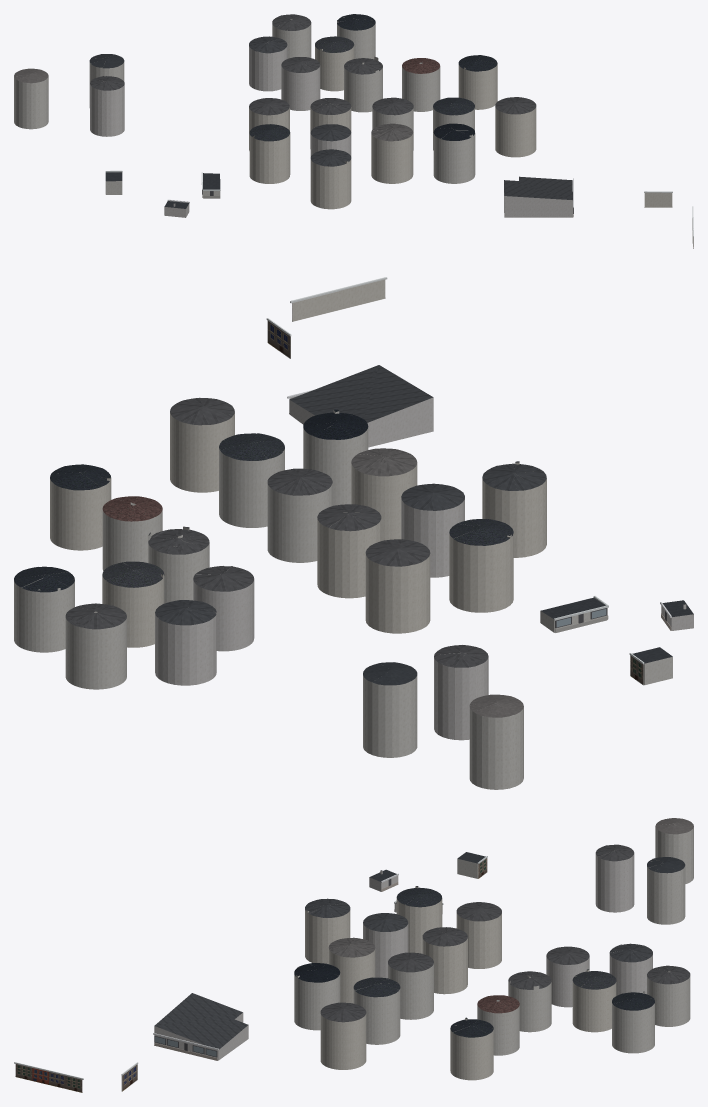
The picture shows the model from 3 angles, top to bottom: view 1: azimuth 30°, elevation 25°; view 2: azimuth 150°, elevation 25°; view 3: azimuth 270°, elevation 25°; orthographic projection. The views are drawn at different scales.
Parts seen in each view (by area): view 1: bldg_6000064550, bldg_6000064534, bldg_6000064565, bldg_6000064514, bldg_6000064507, bldg_6000064487, bldg_6000064479, bldg_6000064539, bldg_6000064571, bldg_6000064552, bldg_6003919425, bldg_6000064563 (+33 smaller); view 2: bldg_6000064516, bldg_6000064507, bldg_6003919425_roof, bldg_6000064492, bldg_6000064479, bldg_6000064537, bldg_6000064548, bldg_6000064544, bldg_6000064528, bldg_6000064565, bldg_6000064556, bldg_6000064561 (+34 smaller); view 3: bldg_6003919425_roof, bldg_6000064565, bldg_6000064487, bldg_6000064492, bldg_6000064571, bldg_6000064561, bldg_6000064556, bldg_6000064550, bldg_6000064551, bldg_6000064528, bldg_6000064516, bldg_6000064544 (+34 smaller).
Part boxes in pixels (x1,y1,x2,y2): bldg_6000064550: (433, 128, 475, 183); bldg_6000064534: (371, 130, 413, 183); bldg_6000064565: (495, 107, 536, 157); bldg_6000064514: (310, 156, 351, 209); bldg_6000064507: (249, 126, 290, 183); bldg_6000064487: (90, 81, 124, 136); bldg_6000064479: (14, 76, 48, 129); bldg_6000064539: (281, 65, 320, 110); bldg_6000064571: (458, 62, 497, 109); bldg_6000064552: (344, 56, 382, 112); bldg_6003919425: (504, 193, 572, 217); bldg_6000064563: (402, 60, 440, 111); bldg_6000064516: (365, 554, 430, 633); bldg_6000064507: (449, 524, 513, 612); bldg_6003919425_roof: (289, 365, 433, 422); bldg_6000064492: (363, 675, 417, 757); bldg_6000064479: (469, 703, 523, 789); bldg_6000064537: (155, 607, 216, 685); bldg_6000064548: (65, 611, 126, 689); bldg_6000064544: (267, 483, 332, 562); bldg_6000064528: (317, 512, 381, 598); bldg_6000064565: (170, 412, 234, 492); bldg_6000064556: (219, 441, 284, 527); bldg_6000064561: (14, 571, 74, 652); bldg_6003919425_roof: (154, 993, 248, 1049); bldg_6000064565: (320, 1014, 366, 1069); bldg_6000064487: (595, 850, 634, 912); bldg_6000064492: (647, 859, 685, 924); bldg_6000064571: (450, 1018, 493, 1080); bldg_6000064561: (612, 992, 654, 1053); bldg_6000064556: (353, 979, 400, 1044); bldg_6000064550: (294, 963, 340, 1030); bldg_6000064551: (572, 969, 616, 1032); bldg_6000064528: (422, 933, 467, 994); bldg_6000064516: (456, 913, 501, 968); bldg_6000064544: (388, 963, 433, 1019).
Bounding box in the file's own units: 159 × 17.84 × 203.
Materials: 22 (14 with a texture image).
